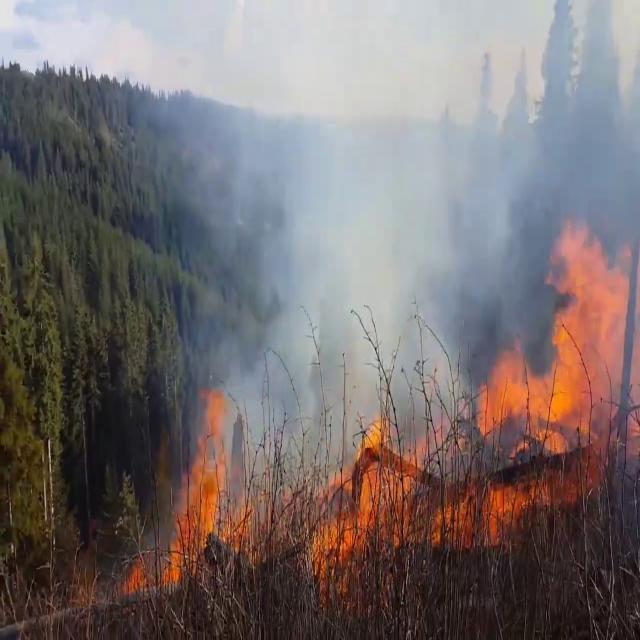Fire: (474, 221, 640, 458), (308, 408, 418, 588), (168, 384, 244, 579)
Smoke: (189, 0, 637, 444)
